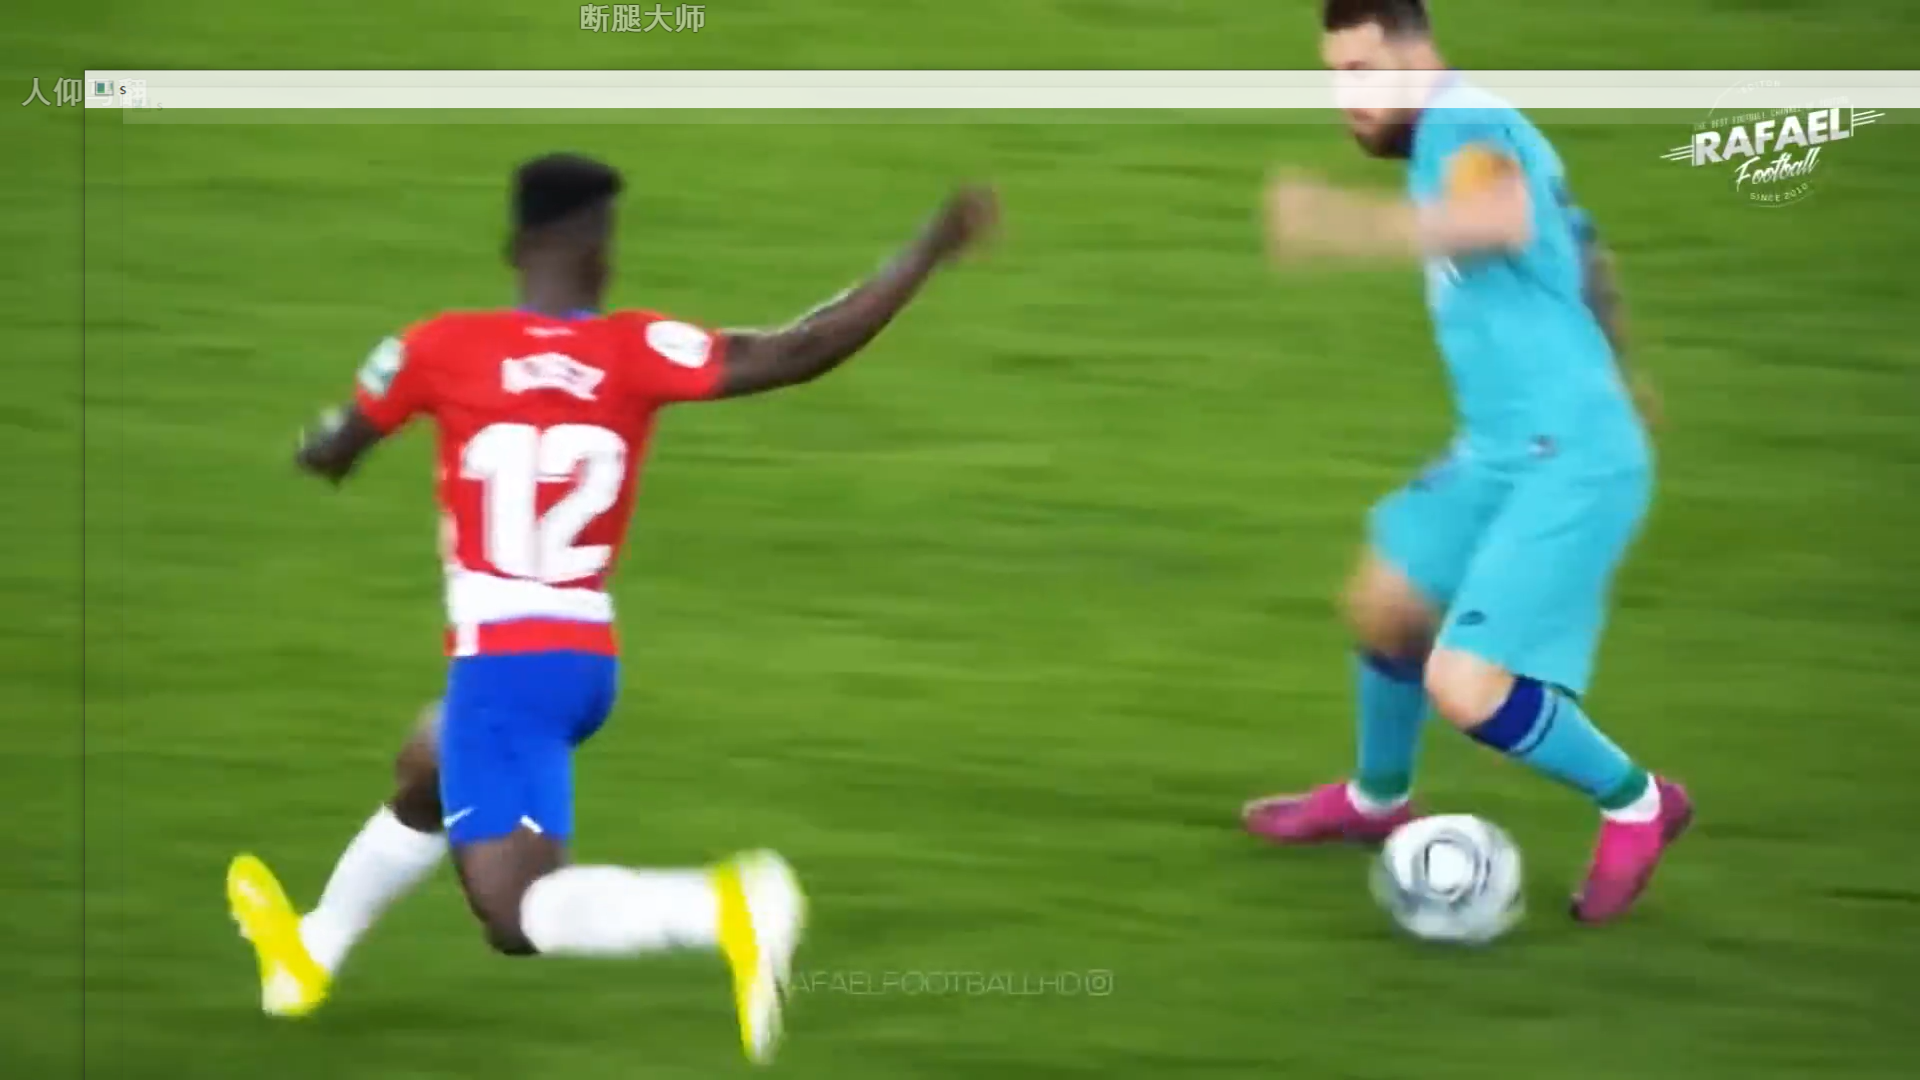ft: (1362, 806, 1532, 967)
